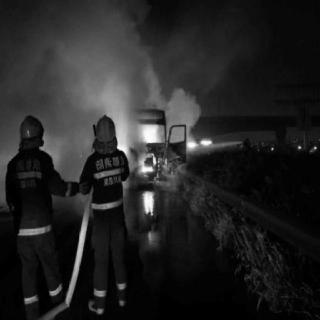other: (187, 130, 214, 152)
